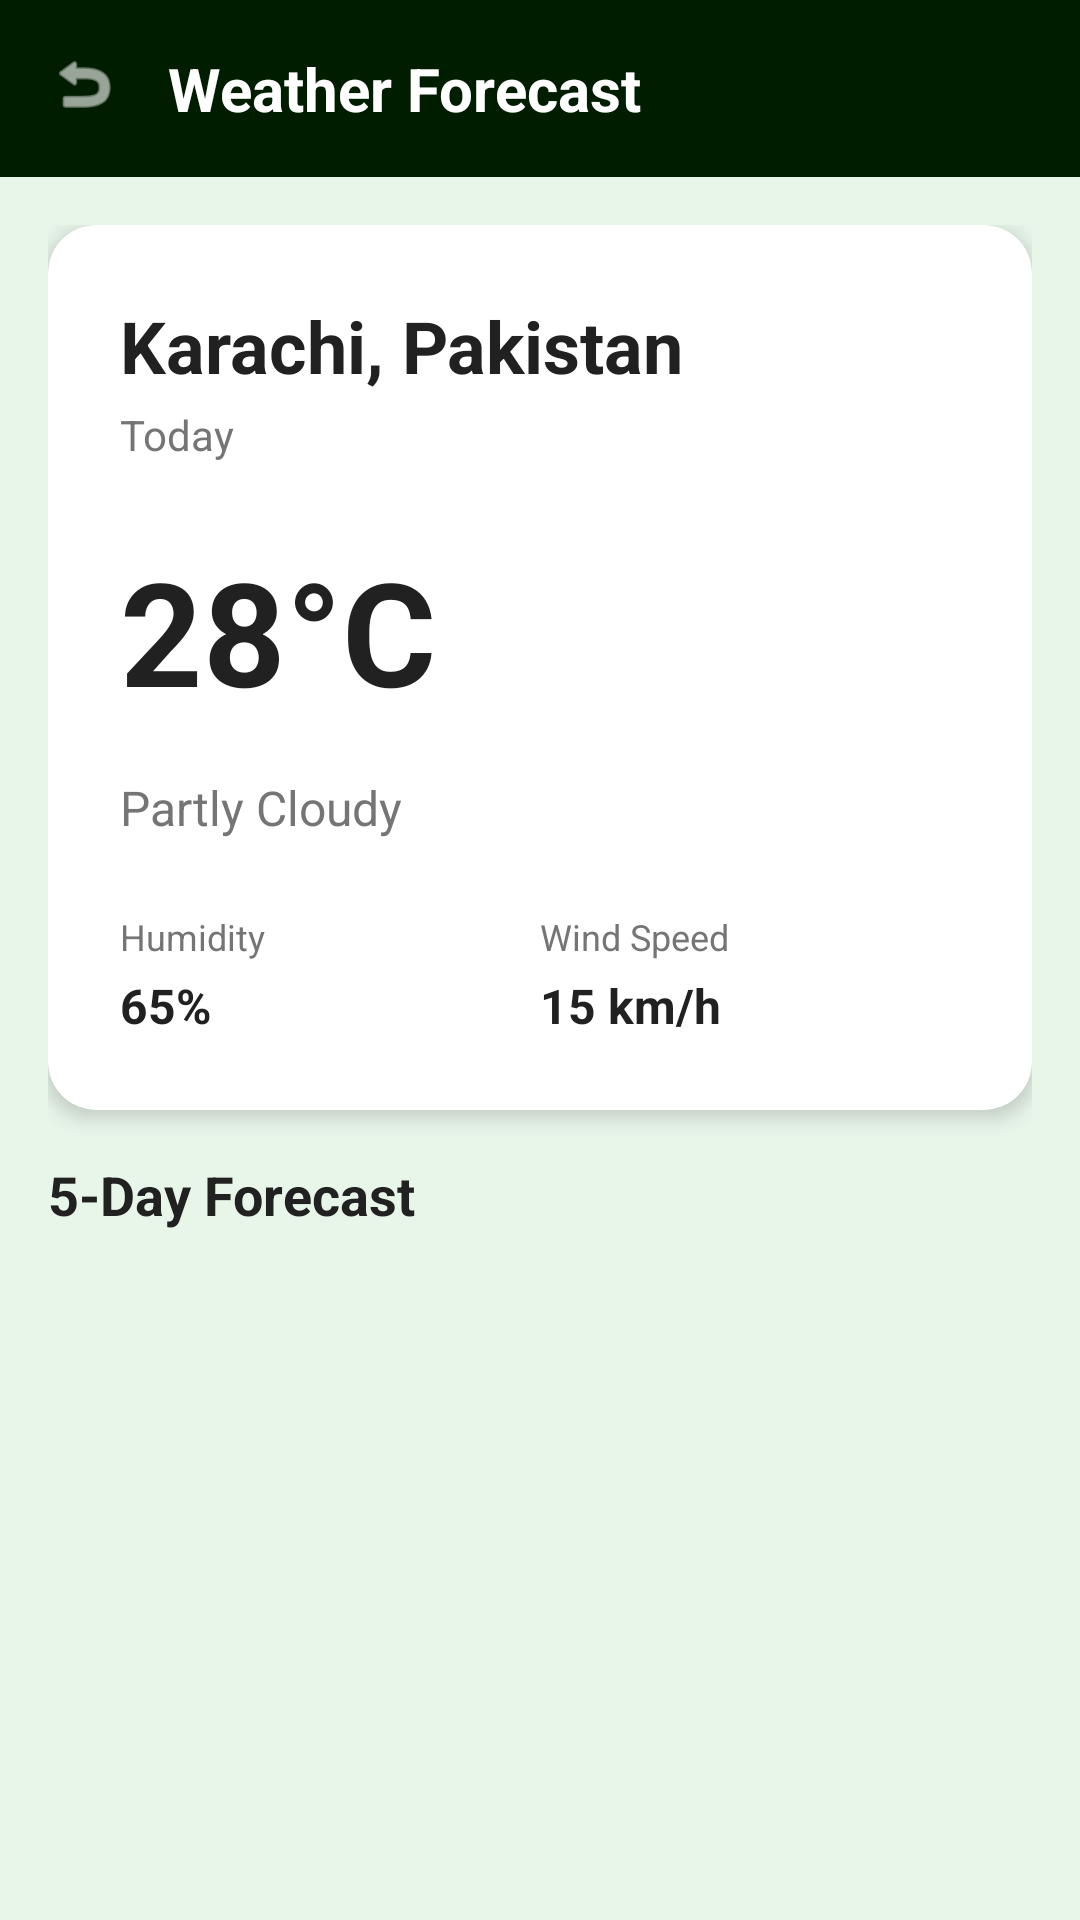

Icon click points for this 1080 × 1920 phone screenshot, format (x=x, y=y):
Back: (x=85, y=84)
